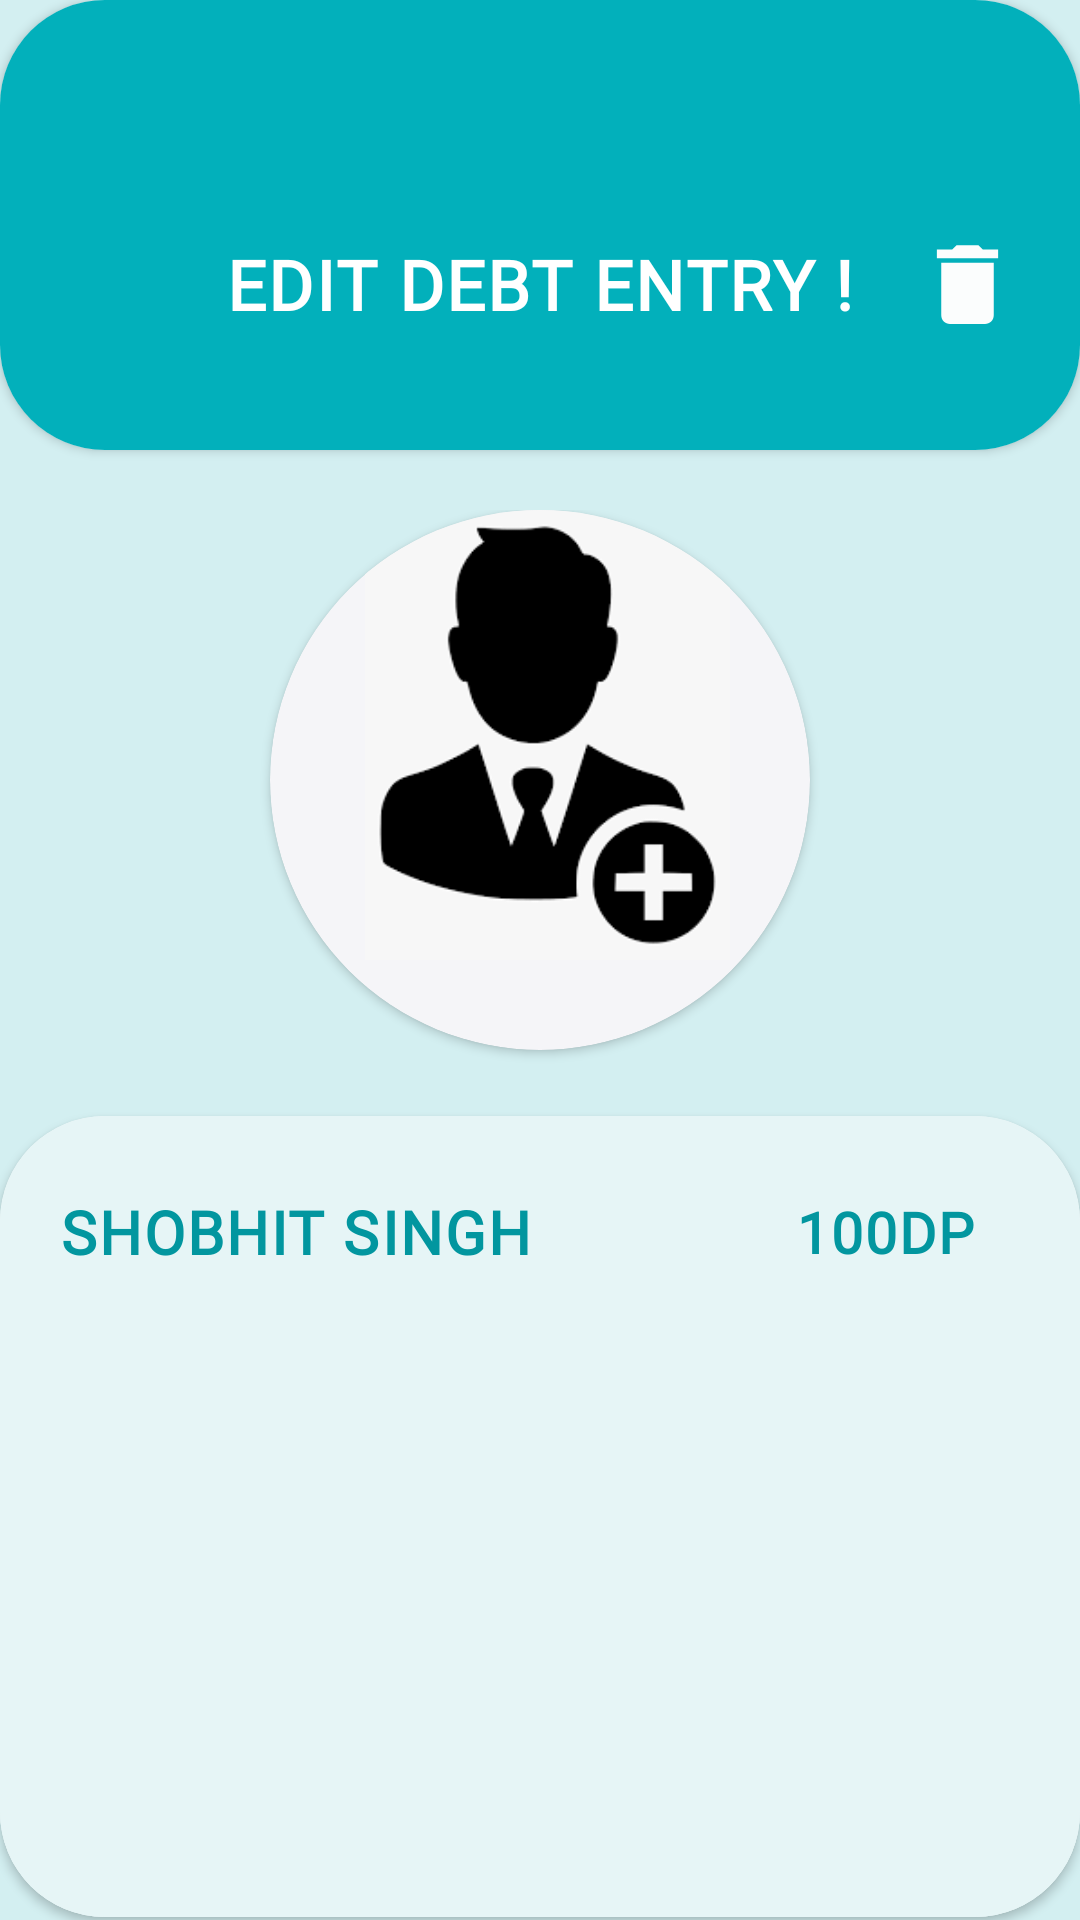

Where to tap for icons on this 1080 x 1920 app screen, as point (x, y):
delete: point (967, 284)
